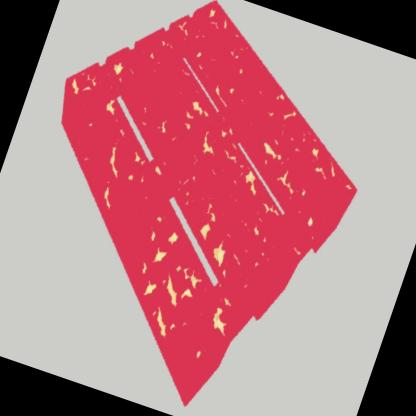BoxFace: (57, 0, 364, 416)
